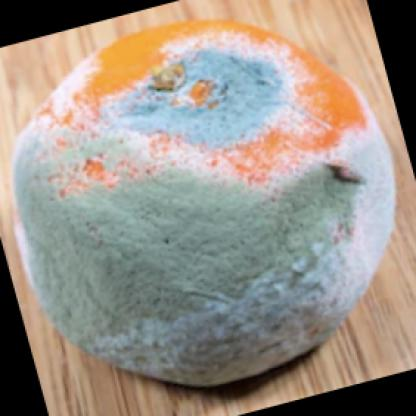rotten_orange: (9, 9, 397, 393)
